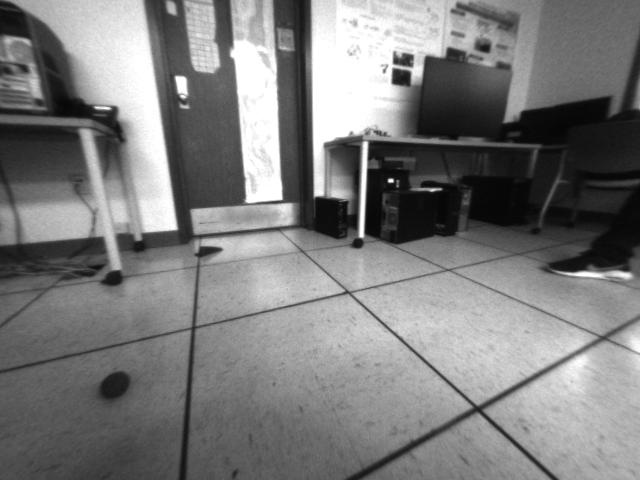dogtoy: (90, 365, 136, 403)
